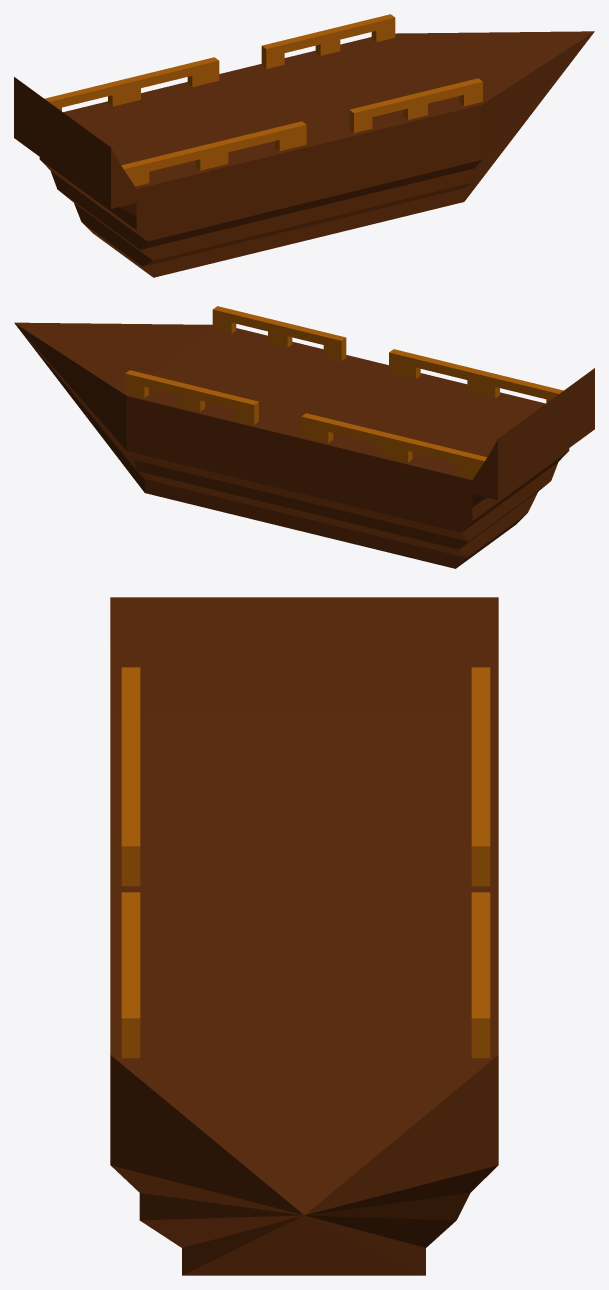
The model's file is ship.fbx.
The picture shows the model from 3 angles, top to bottom: view 1: azimuth 30°, elevation 25°; view 2: azimuth 150°, elevation 25°; view 3: azimuth 270°, elevation 25°; orthographic projection. The views are drawn at different scales.
Parts seen in each view (by area): view 1: Cube; view 2: Cube; view 3: Cube.
Part boxes in pixels (x1,y1,x2,y2): Cube: (14, 14, 594, 277); Cube: (14, 306, 594, 568); Cube: (110, 597, 498, 1275).
Size of the model in its own units: 2697 by 765 by 851.
